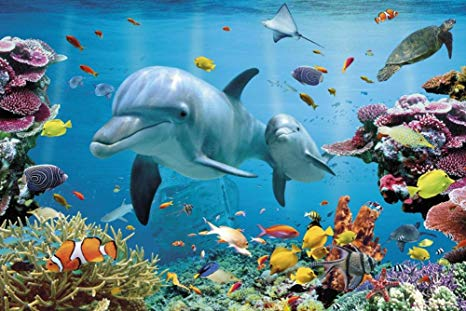dolphin: (85, 49, 274, 210), (256, 108, 344, 209)
fish: (31, 237, 128, 268), (198, 217, 262, 253), (403, 164, 453, 203), (20, 160, 76, 192), (36, 118, 77, 138)
trutle: (373, 14, 459, 81)
